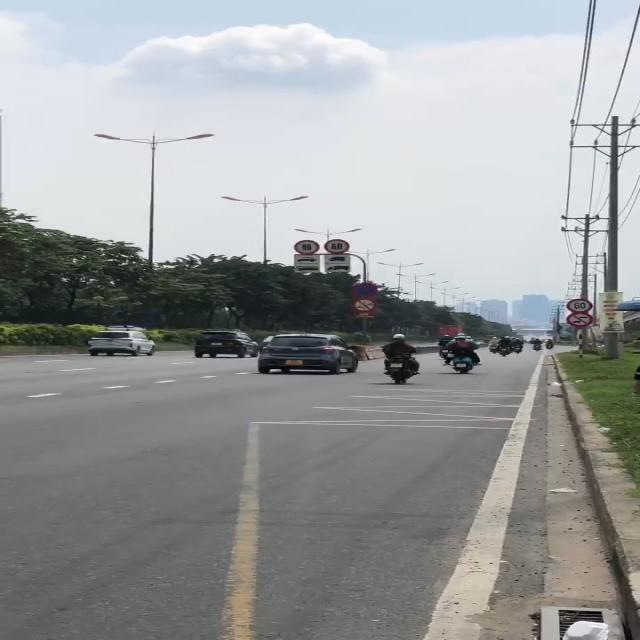Bien bao toc do toi da cho phep: (320, 238, 350, 254), (567, 298, 595, 313), (294, 239, 321, 254)
